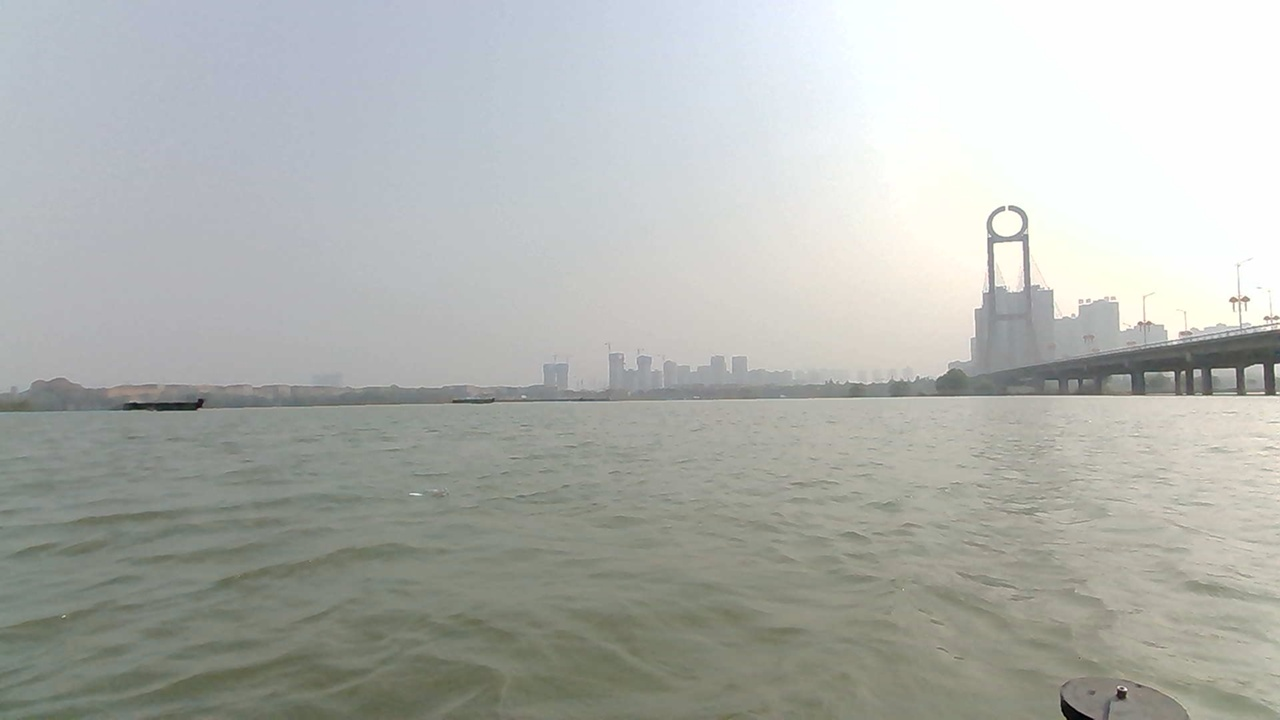bottle: (398, 474, 469, 522)
